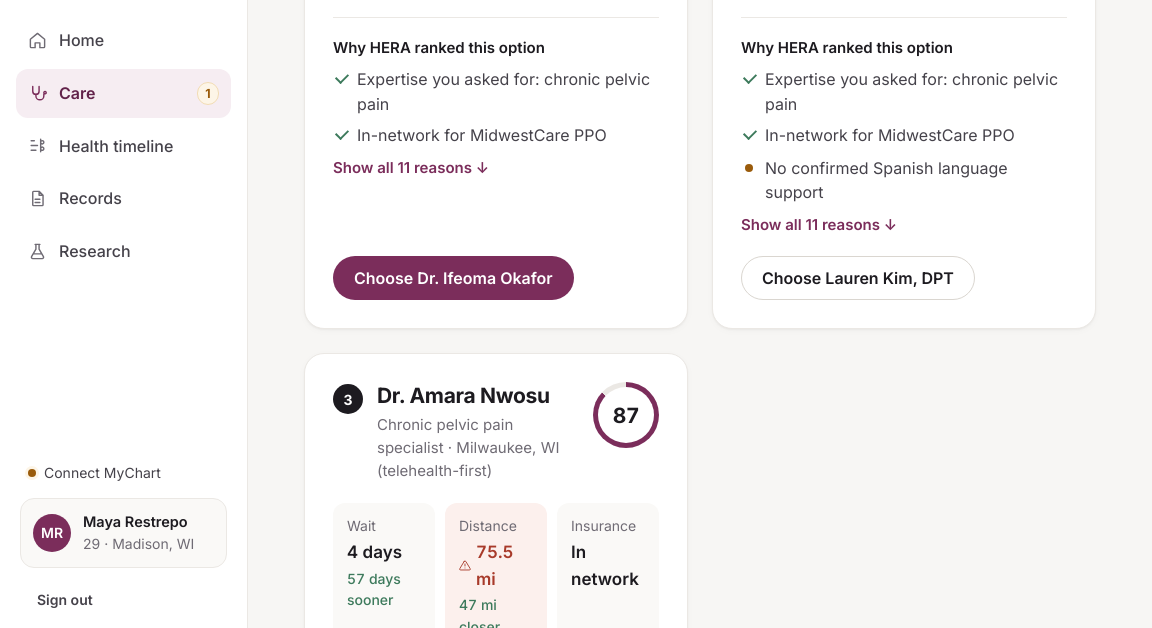
Test: Appointments › shows the booked appointment and cancels it with a reason
This screenshot has width=1152, height=628.
(page scrolled)
Click the button "Choose Dr. Ifeoma Okafor" at x=453, y=278, box [333,256,574,300]
(page scrolled)
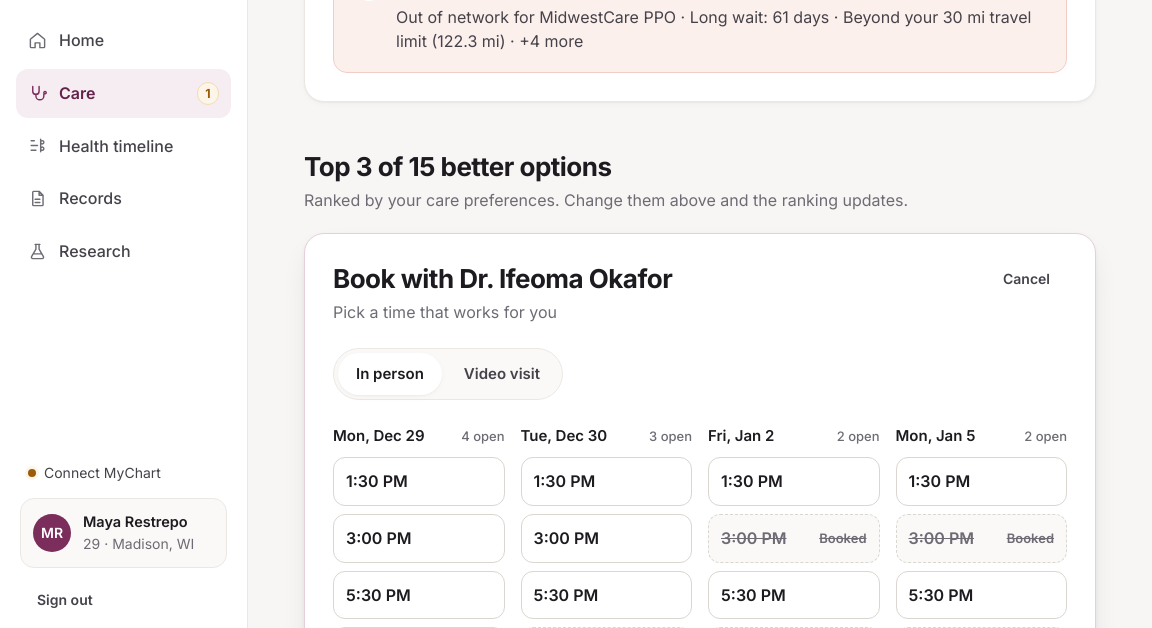
Click the radio button with aria-label "Mon, Dec 29 at 5:30 PM" at x=419, y=595, box [333,570,504,619]
(page scrolled)
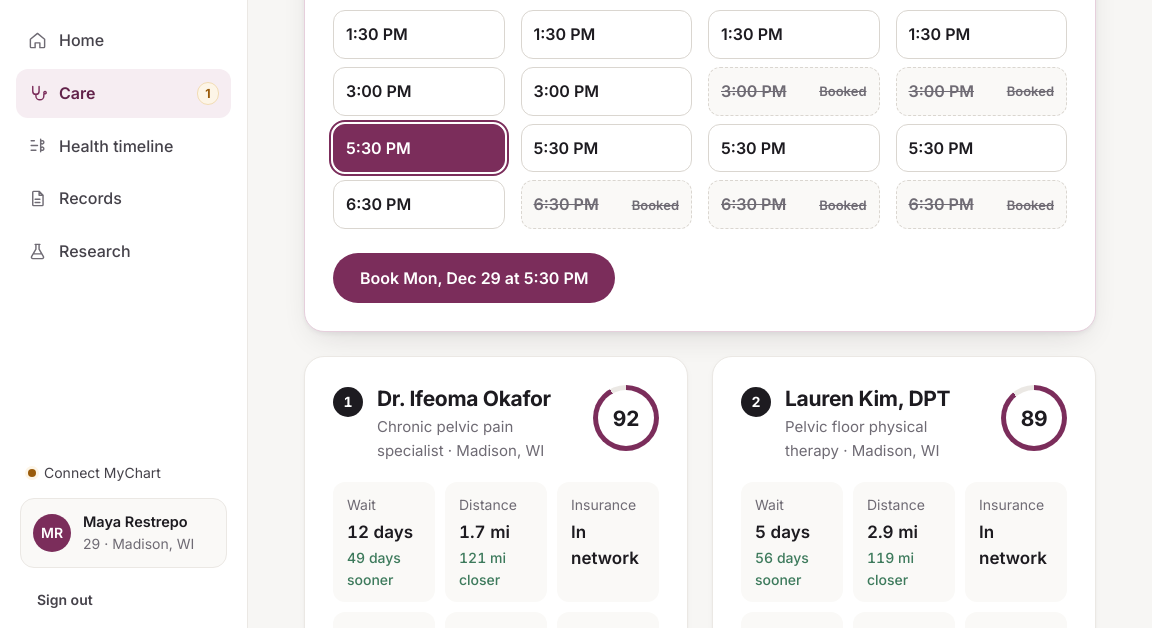
Click the button "Book Mon, Dec 29 at 5:30 PM" at x=474, y=278, box [333,253,616,303]
(page scrolled)
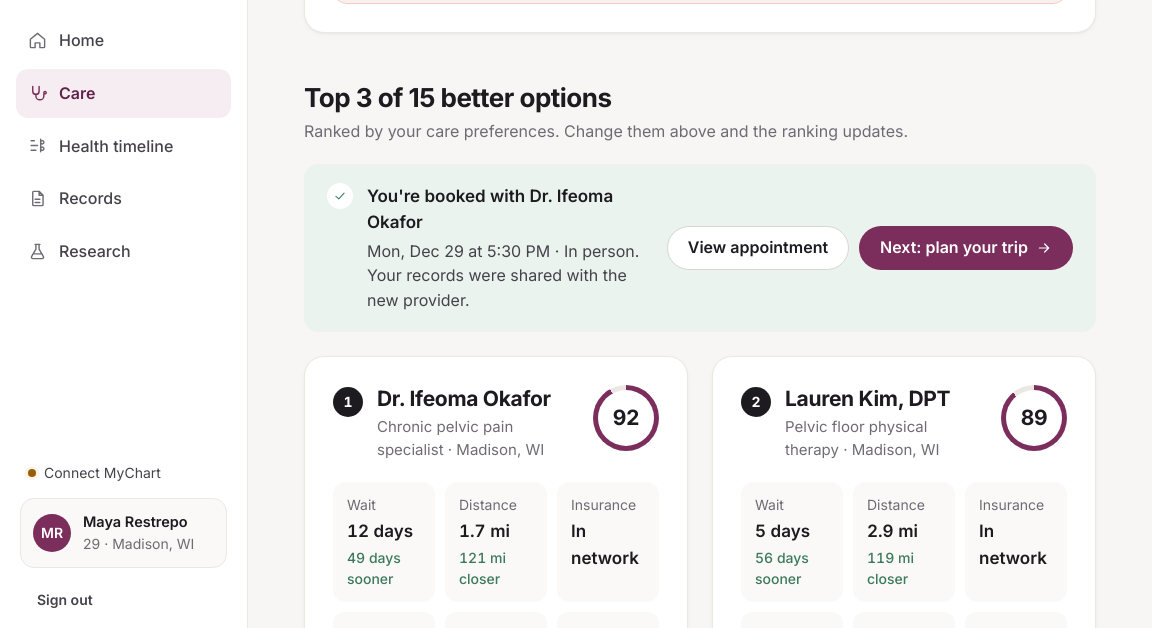
Expected: the text "You're booked with Dr. Ifeoma Okafor" is shown, [367,183,653,236]
Click the link "View appointment" at x=758, y=248, box [667,226,849,270]
(page scrolled)
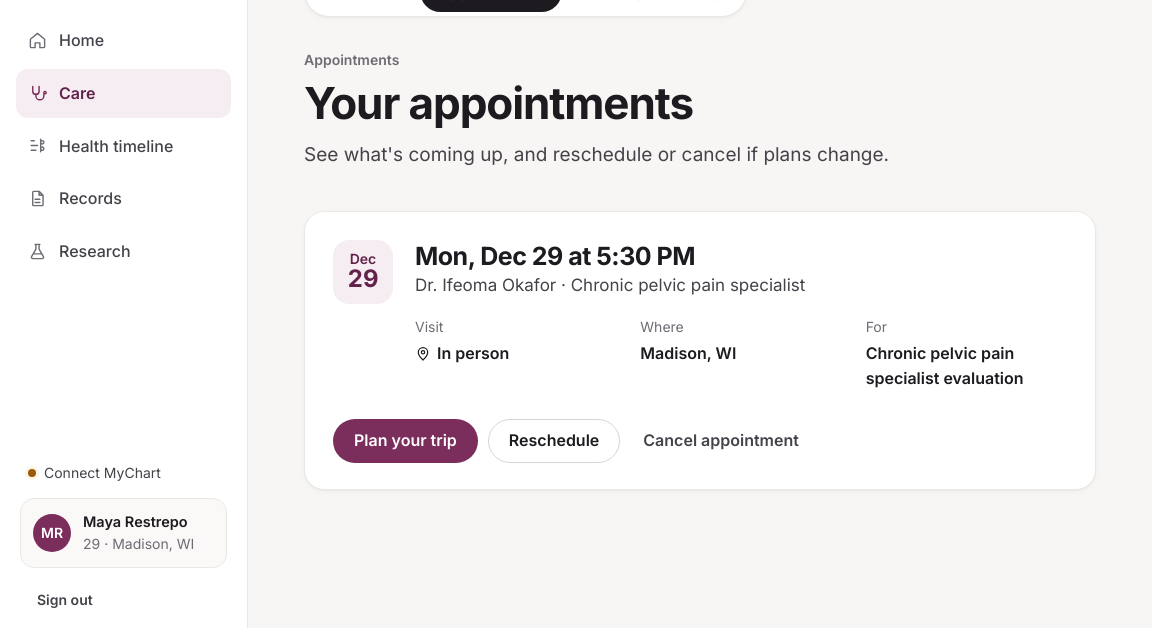
Expected: the text "Madison, WI" is shown, [640,343,736,363]
Expected: the text "In person" is shown, [415,343,509,363]
Click the button "Cancel appointment" at x=721, y=441, box [630,420,812,461]
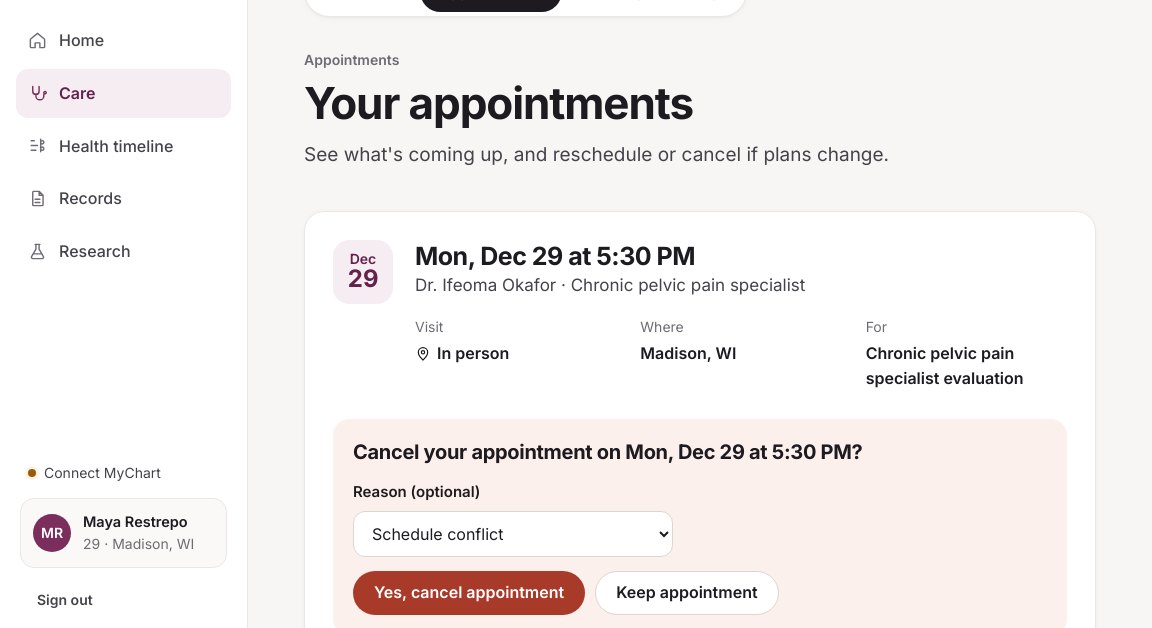
Select "Schedule conflict" in the dropdown labelled "Reason (optional)" at x=513, y=534, box [353,511,673,557]
Click the button "Yes, cancel appointment" at x=469, y=593, box [353,571,585,615]
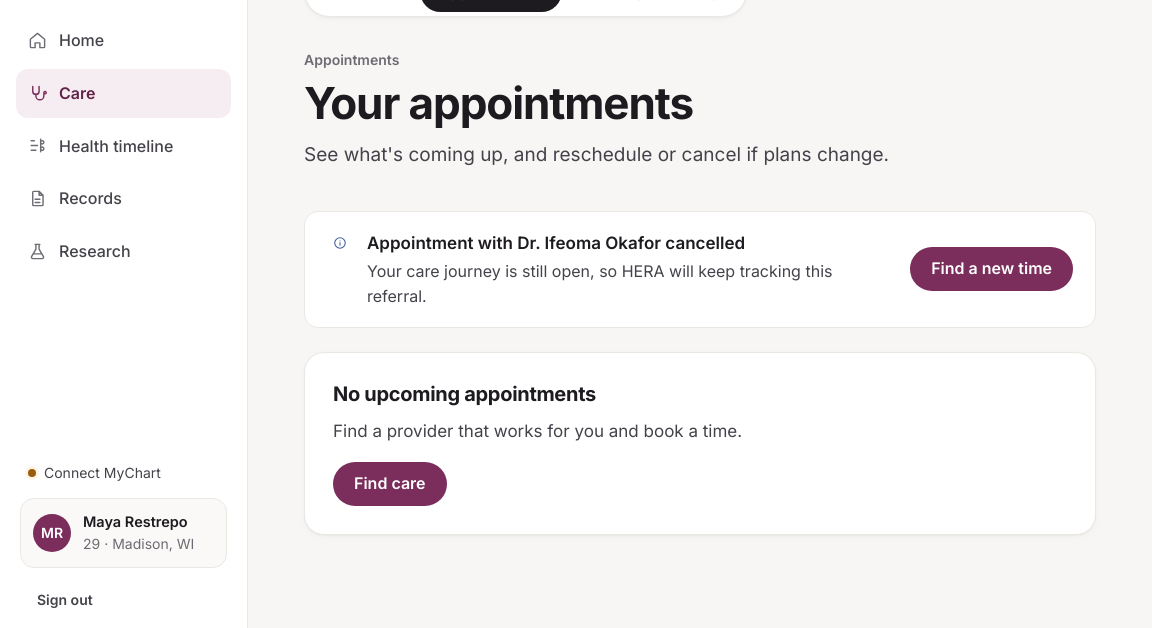
Expected: the text "Appointment with Dr. Ifeoma Okafor cancelled" is shown, [367,233,745,253]
Expected: the text "No upcoming appointments" is shown, [333,382,596,406]
